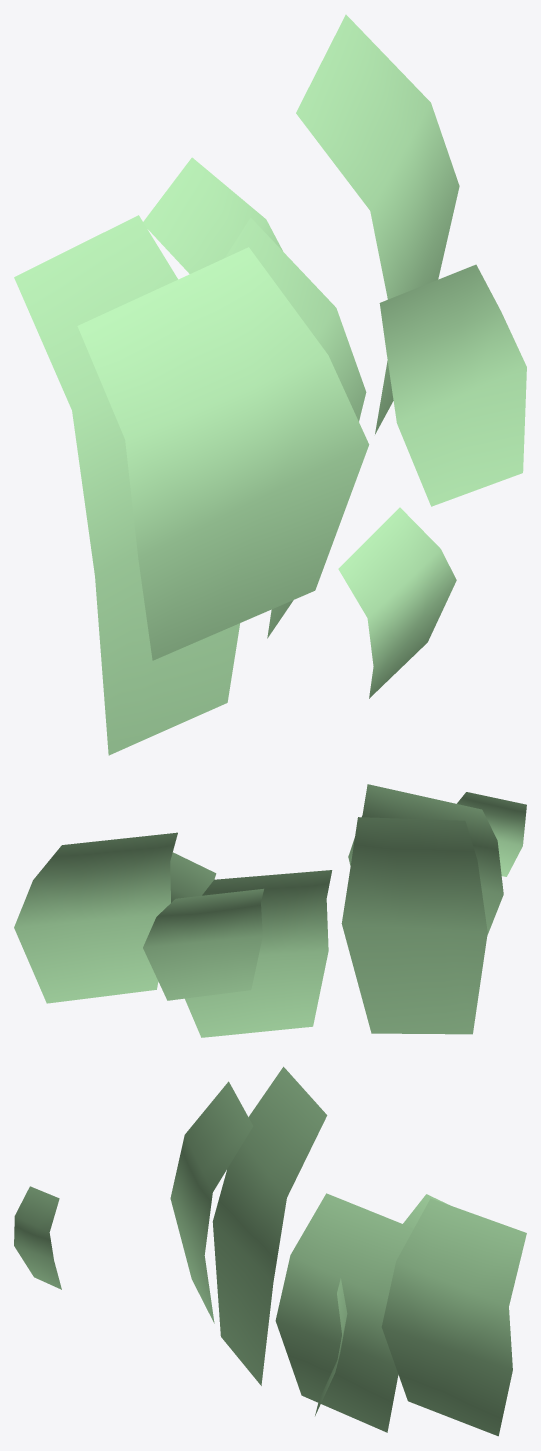
Rendered from sm_2dplants_01.gltf.
The picture shows the model from 3 angles, top to bottom: view 1: azimuth 30°, elevation 25°; view 2: azimuth 150°, elevation 25°; view 3: azimuth 270°, elevation 25°; orthographic projection. The views are drawn at different scales.
Visible parts, largest first — view 1: sm_2dplants_01; view 2: sm_2dplants_01; view 3: sm_2dplants_01.
Boxes of the visible parts, <box> form: sm_2dplants_01: <box>14,14,526,755</box>; sm_2dplants_01: <box>14,784,526,1037</box>; sm_2dplants_01: <box>14,1066,526,1436</box>.
Size of the model in its own units: 1.28 by 0.8708 by 1.53.
